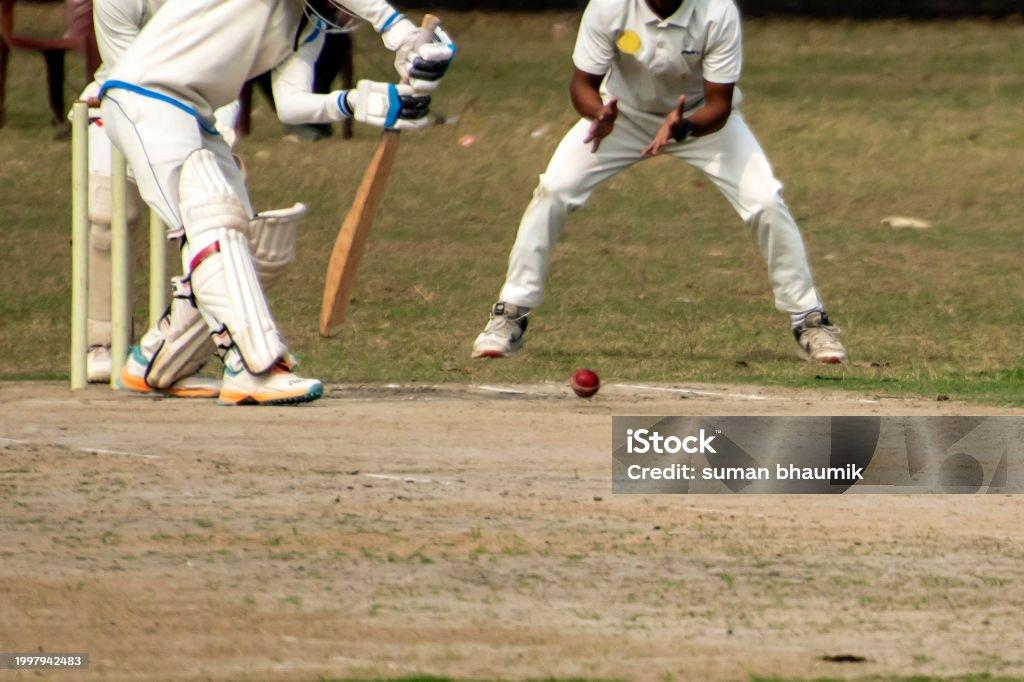batsman: (66, 0, 436, 418)
